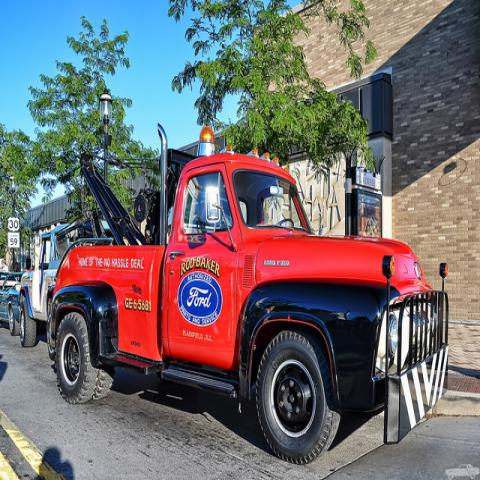car: (0, 272, 24, 336)
truck: (41, 113, 451, 468), (18, 208, 103, 348)
